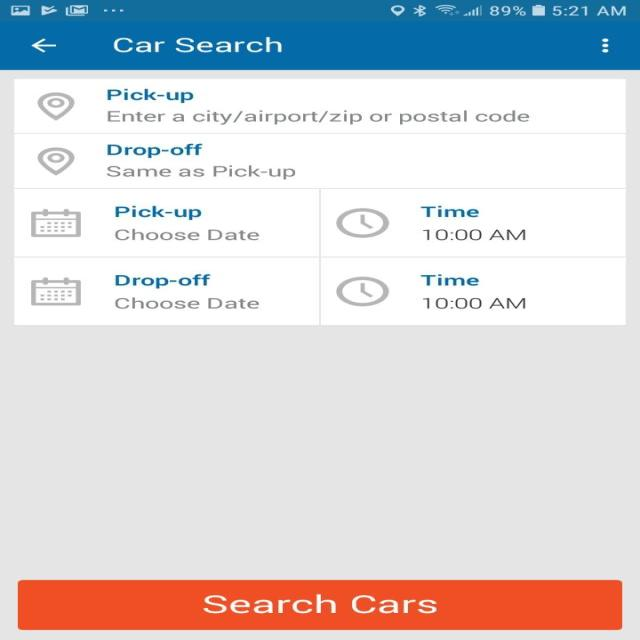Icon: (335, 276, 389, 307), (335, 207, 389, 238), (30, 208, 82, 237), (30, 277, 82, 305), (36, 147, 76, 175), (36, 92, 74, 121), (30, 38, 57, 53), (600, 37, 608, 52)
Text: (107, 110, 529, 125), (106, 164, 296, 180), (113, 36, 283, 53), (114, 228, 260, 240), (114, 297, 260, 309), (106, 142, 202, 158), (114, 273, 210, 288), (115, 205, 202, 220), (422, 228, 526, 240), (422, 297, 526, 309), (106, 89, 194, 103), (420, 205, 480, 217), (420, 274, 480, 286)
TextButton: (18, 580, 622, 630)
